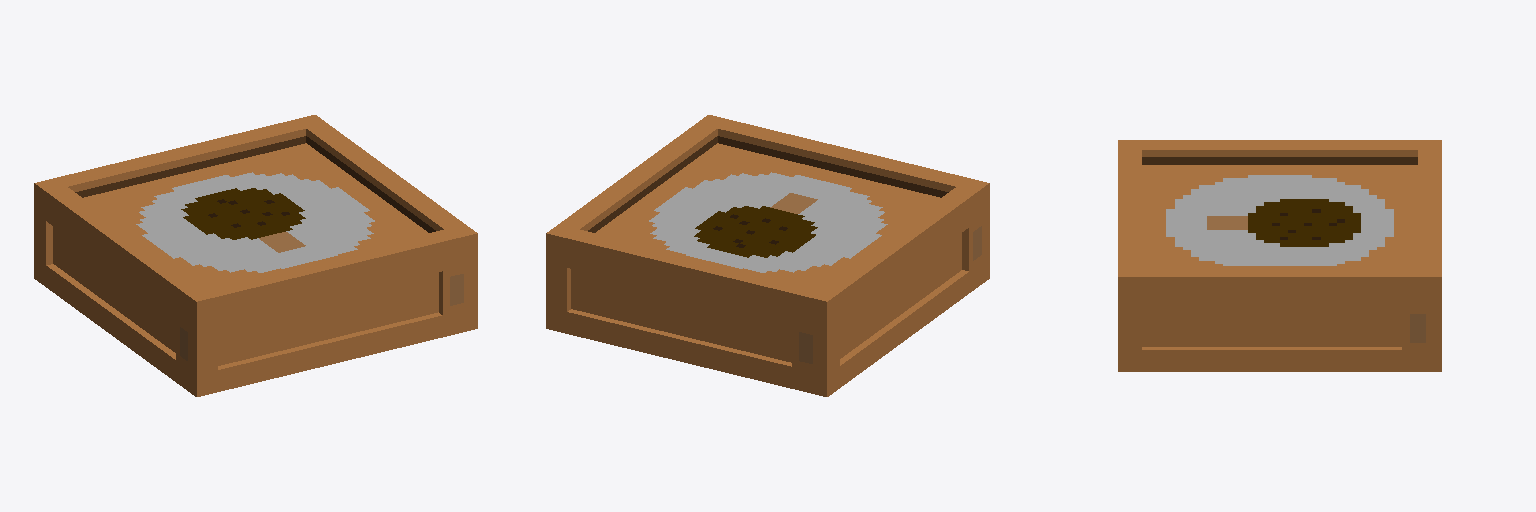
3 renders of one model, left to right at view 1: azimuth 30°, elevation 25°; view 2: azimuth 150°, elevation 25°; view 3: azimuth 270°, elevation 25°, orthographic.
Parts seen in each view (by area): view 1: object 1; view 2: object 1; view 3: object 1.
Part boxes in pixels (x1,y1,x2,y2): object 1: (34,115,477,396); object 1: (546,115,989,396); object 1: (1118,140,1441,371).
Bounding box in the file's own units: 4 × 1.3 × 4.
Materials: 1 (1 with a texture image).